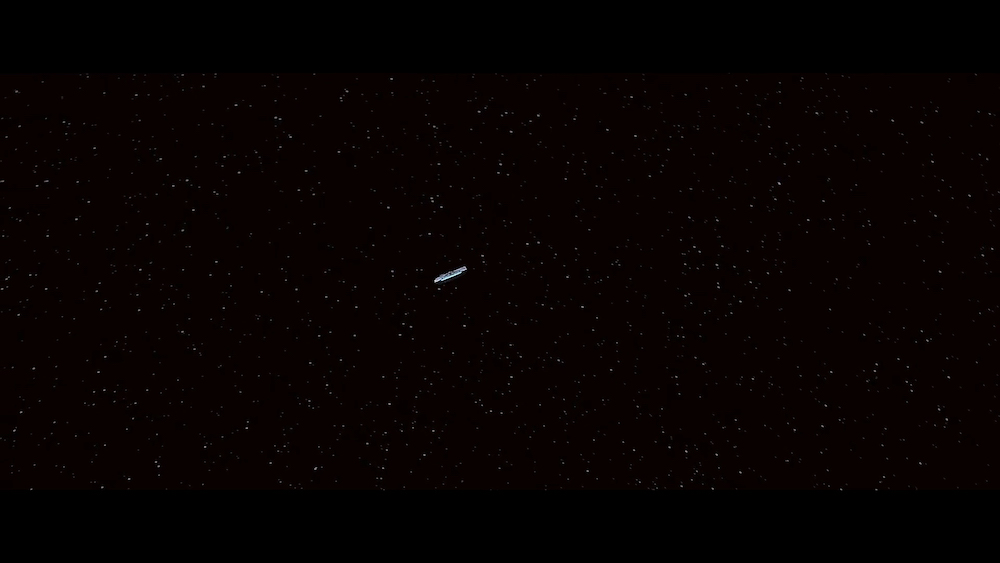Millennium Falcon: (435, 267, 467, 286)
